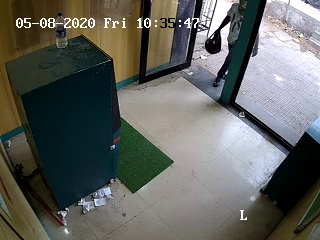open: (136, 2, 263, 105)
